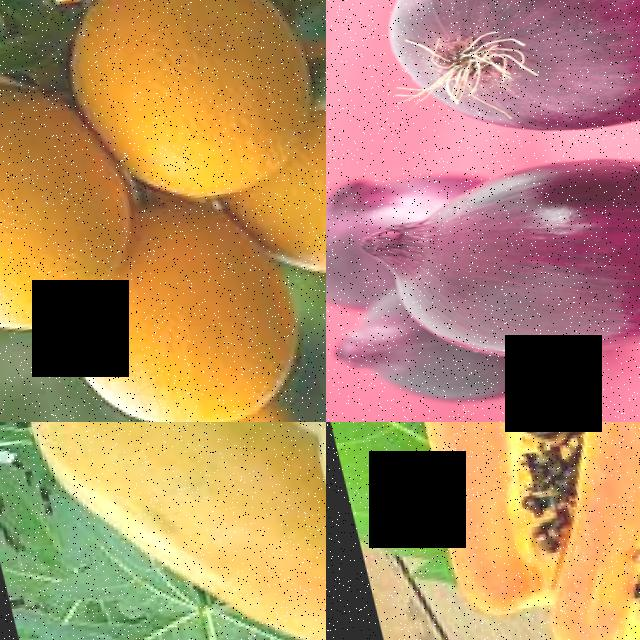onion: (371, 138, 640, 372), (359, 0, 640, 155)
orange: (43, 0, 326, 208), (47, 275, 307, 422), (0, 66, 137, 332), (294, 29, 326, 273)
pawpaw: (15, 422, 317, 615), (364, 422, 633, 614), (544, 422, 640, 640)
